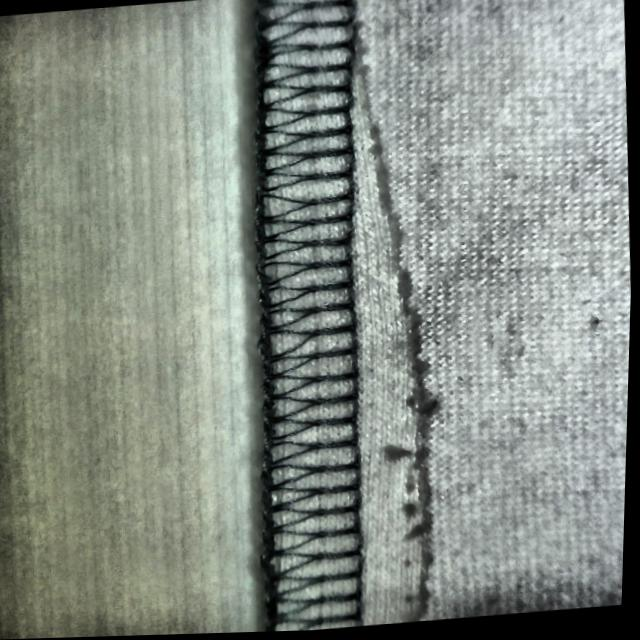seam: (234, 34, 485, 634)
